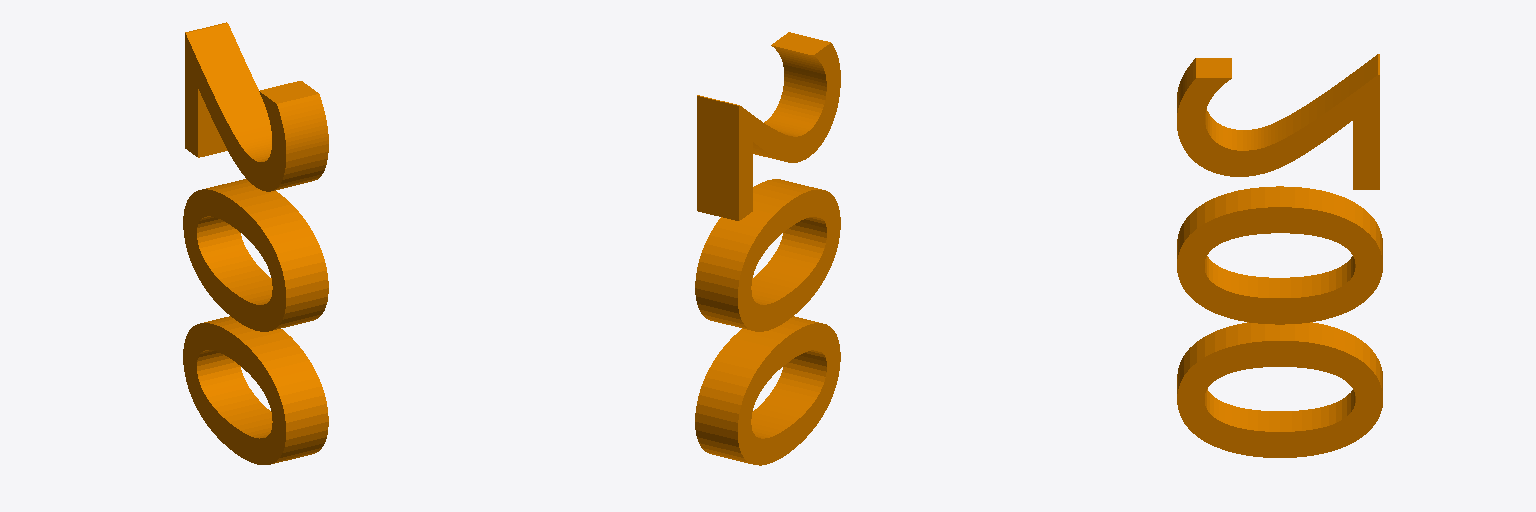
File: artifact_200.obj
3 views of the same model, side by side, from view 1: azimuth 30°, elevation 25°; view 2: azimuth 150°, elevation 25°; view 3: azimuth 270°, elevation 25° (orthographic).
Visible parts, largest first — view 1: Text_Mesh; view 2: Text_Mesh; view 3: Text_Mesh.
Part boxes in pixels (x1,y1,x2,y2): Text_Mesh: (183, 22, 328, 464); Text_Mesh: (695, 32, 840, 465); Text_Mesh: (1177, 54, 1382, 457).
Bounding box in the file's own units: 0.3044 × 2.63 × 1.28.